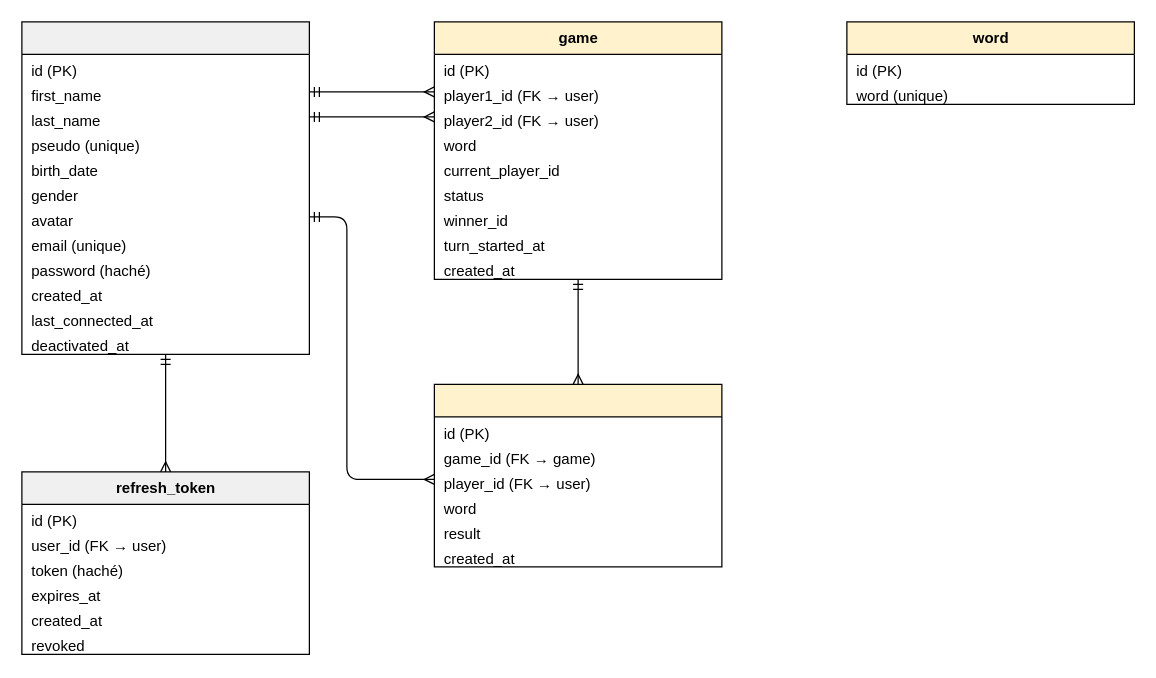
Some shapes in this 1156 by 678 pixel diagram are drawn without their labels. Each missing label, with the box of its shape:
guess: (433, 383, 722, 567)
user: (21, 21, 309, 354)
